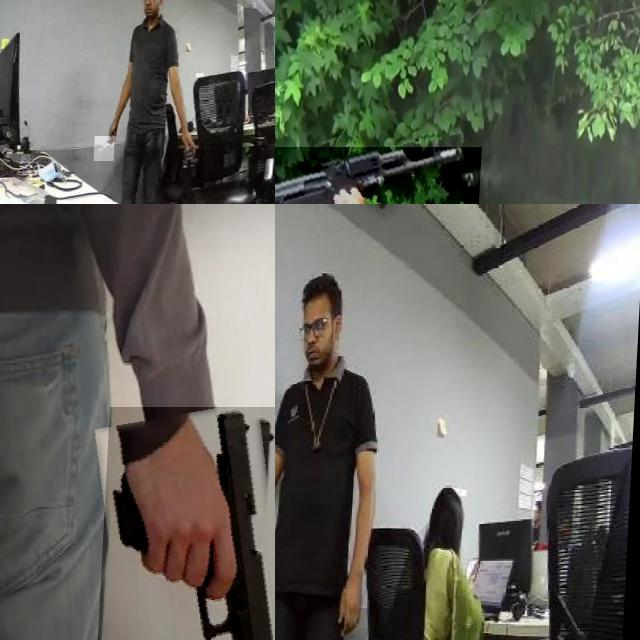-: (275, 363, 296, 449), (96, 136, 118, 161), (0, 183, 9, 204)
gun-knife-thesis - v11 Yolov5 augmented: (98, 407, 275, 640)
